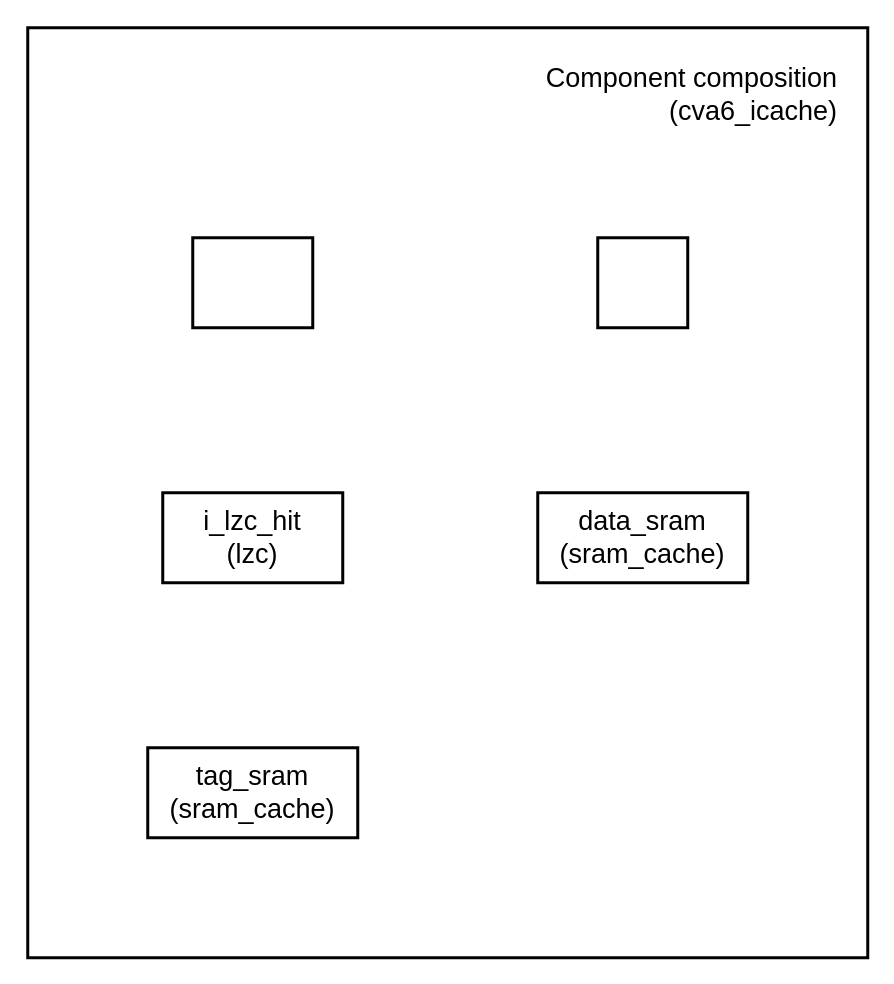
Image size: 894x984. Some labels were removed from this diagram. The shapes that lost their labels are listed below. From the top down, each one's box as (x1, y1, x2, y2) in pixels, then its label:
(190, 236, 314, 328): i_lfsr (lfsr)
(596, 236, 688, 328): i_lzc (lzc)
